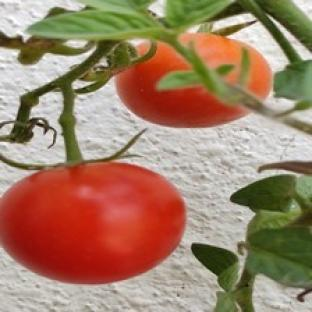Tomato: (0, 162, 185, 284), (116, 42, 249, 128)
